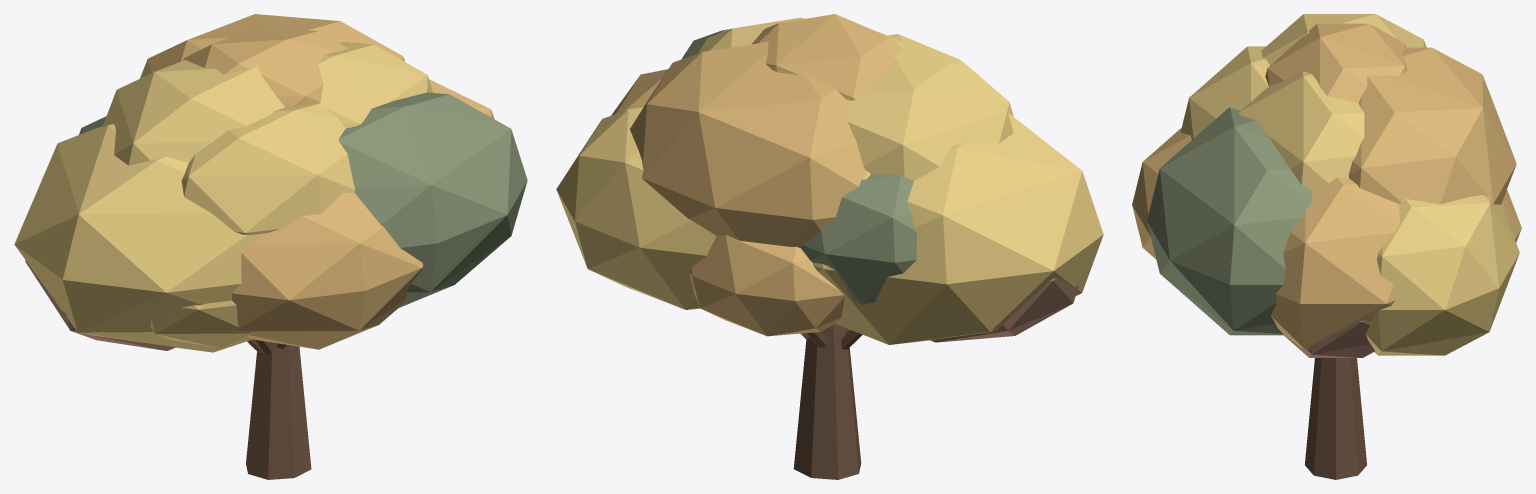
The model's file is tree_reference_oak_broad_01_optimized.fbx.
The picture shows the model from 3 angles, left to right: view 1: azimuth 30°, elevation 25°; view 2: azimuth 150°, elevation 25°; view 3: azimuth 270°, elevation 25°; orthographic projection. The views are drawn at different scales.
Parts seen in each view (by area): view 1: tree_reference_oak_broad_01_01_valendia_img2_gold_leaf, tree_reference_oak_broad_01_04_valendia_img2_warm_leaf, tree_reference_oak_broad_01_02_valendia_img2_olive_shadow, tree_reference_oak_broad_01_00_valendia_dark_bark, tree_reference_oak_broad_01_03_valendia_img2_russet_shadow; view 2: tree_reference_oak_broad_01_01_valendia_img2_gold_leaf, tree_reference_oak_broad_01_04_valendia_img2_warm_leaf, tree_reference_oak_broad_01_02_valendia_img2_olive_shadow, tree_reference_oak_broad_01_00_valendia_dark_bark, tree_reference_oak_broad_01_03_valendia_img2_russet_shadow; view 3: tree_reference_oak_broad_01_04_valendia_img2_warm_leaf, tree_reference_oak_broad_01_01_valendia_img2_gold_leaf, tree_reference_oak_broad_01_02_valendia_img2_olive_shadow, tree_reference_oak_broad_01_00_valendia_dark_bark, tree_reference_oak_broad_01_03_valendia_img2_russet_shadow.
Boxes of the visible parts, bbox=[...] form: tree_reference_oak_broad_01_01_valendia_img2_gold_leaf: bbox=[14, 42, 433, 352]; tree_reference_oak_broad_01_04_valendia_img2_warm_leaf: bbox=[140, 14, 494, 349]; tree_reference_oak_broad_01_02_valendia_img2_olive_shadow: bbox=[79, 92, 527, 307]; tree_reference_oak_broad_01_00_valendia_dark_bark: bbox=[246, 339, 311, 479]; tree_reference_oak_broad_01_03_valendia_img2_russet_shadow: bbox=[25, 260, 175, 350]; tree_reference_oak_broad_01_01_valendia_img2_gold_leaf: bbox=[556, 17, 1103, 344]; tree_reference_oak_broad_01_04_valendia_img2_warm_leaf: bbox=[611, 14, 902, 336]; tree_reference_oak_broad_01_02_valendia_img2_olive_shadow: bbox=[681, 29, 916, 304]; tree_reference_oak_broad_01_00_valendia_dark_bark: bbox=[793, 324, 862, 479]; tree_reference_oak_broad_01_03_valendia_img2_russet_shadow: bbox=[930, 278, 1078, 342]; tree_reference_oak_broad_01_04_valendia_img2_warm_leaf: bbox=[1132, 23, 1521, 348]; tree_reference_oak_broad_01_01_valendia_img2_gold_leaf: bbox=[1180, 14, 1519, 355]; tree_reference_oak_broad_01_02_valendia_img2_olive_shadow: bbox=[1147, 107, 1312, 335]; tree_reference_oak_broad_01_00_valendia_dark_bark: bbox=[1305, 358, 1366, 479]; tree_reference_oak_broad_01_03_valendia_img2_russet_shadow: bbox=[1283, 320, 1374, 357].
Bounding box in the file's own units: 567 × 515 × 425.
